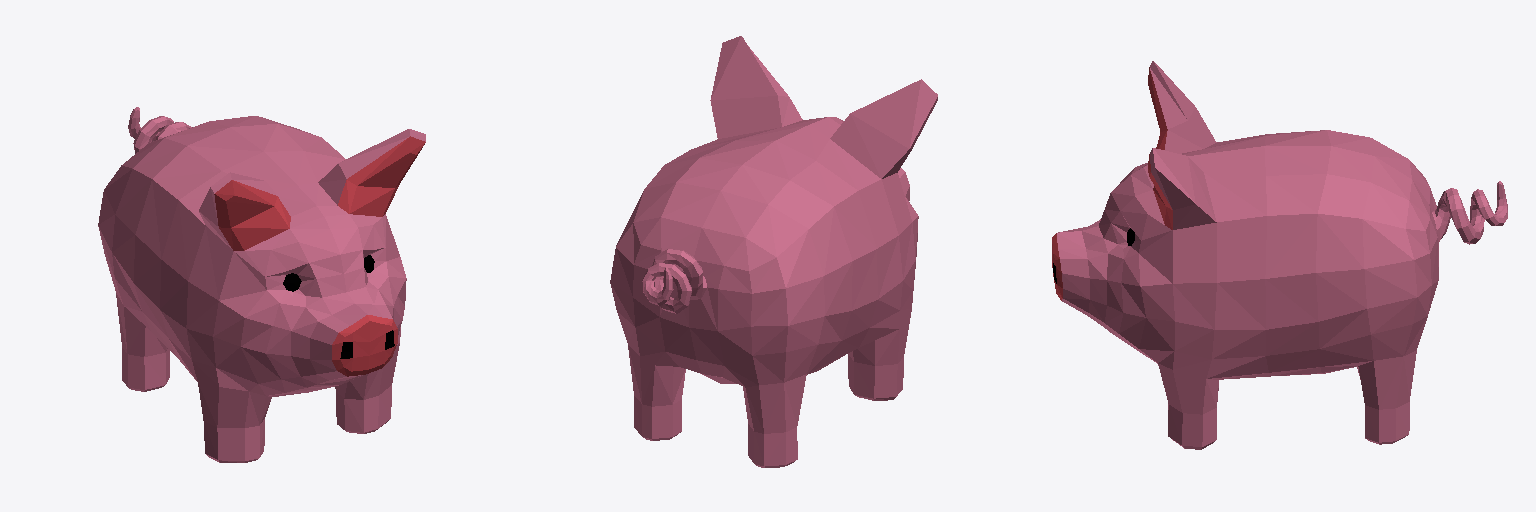
Rendered from Origami_Pig.obj.
3 views of the same model, side by side, from view 1: azimuth 30°, elevation 25°; view 2: azimuth 150°, elevation 25°; view 3: azimuth 270°, elevation 25° (orthographic).
Visible parts, largest first — view 1: Cube_Cube.002; view 2: Cube_Cube.002; view 3: Cube_Cube.002.
Part boxes in pixels (x1,y1,x2,y2): Cube_Cube.002: (98,107,425,462); Cube_Cube.002: (610,36,937,467); Cube_Cube.002: (1052,61,1507,449).
Size of the model in its own units: 2.12 by 2.86 by 3.89.